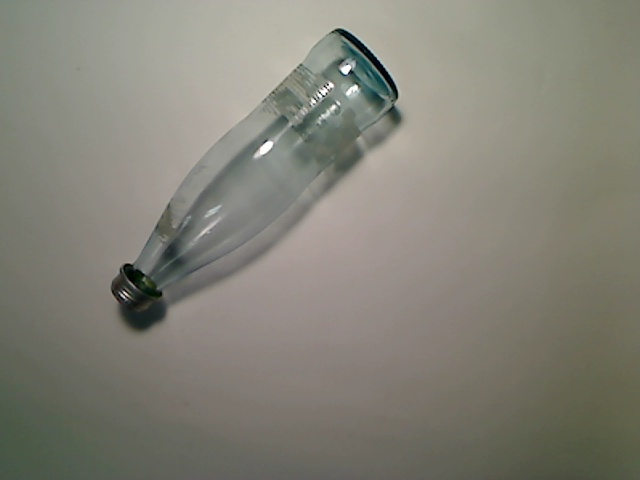bottle: (110, 28, 399, 313)
